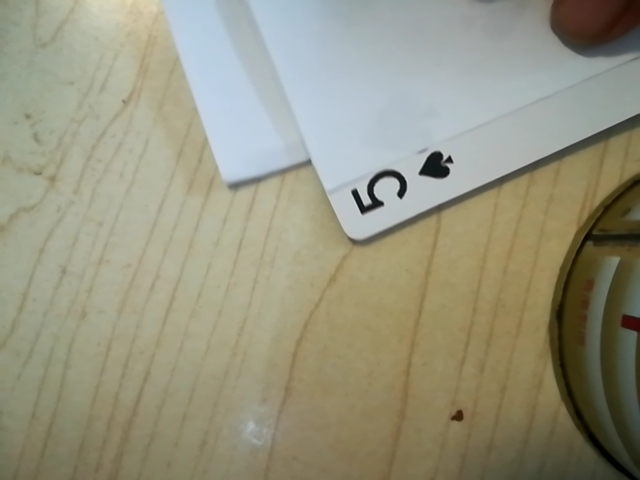ht 5: (337, 141, 471, 230)
